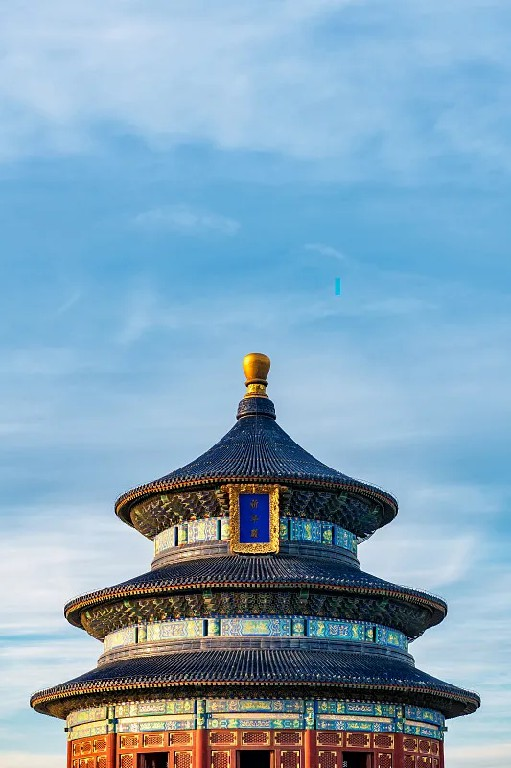Heaven: (29, 353, 480, 768)
